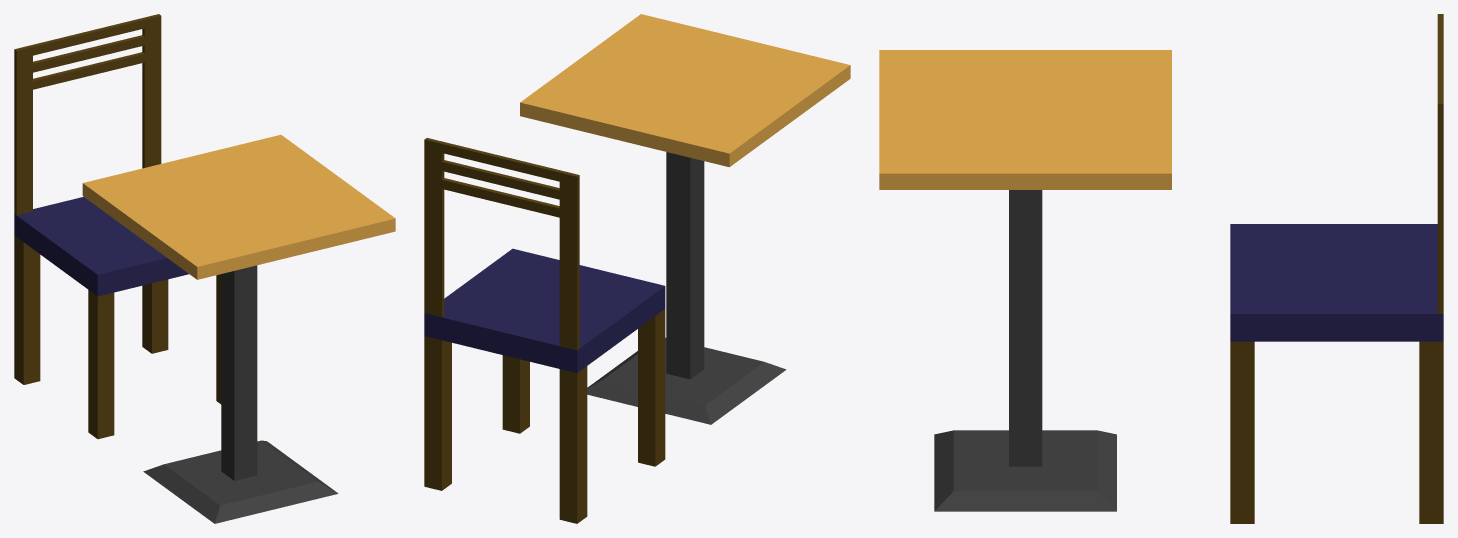
File: chair3.glb
The picture shows the model from 3 angles, left to right: view 1: azimuth 30°, elevation 25°; view 2: azimuth 150°, elevation 25°; view 3: azimuth 270°, elevation 25°; orthographic projection. The views are drawn at different scales.
Visible parts, largest first — view 1: entity_2; view 2: entity_2; view 3: entity_2.
Part boxes in pixels (bbox=[...]): entity_2: bbox=[14, 14, 395, 523]; entity_2: bbox=[424, 14, 850, 523]; entity_2: bbox=[879, 14, 1443, 523].
Bounding box in the file's own units: 268 × 425 × 518.
